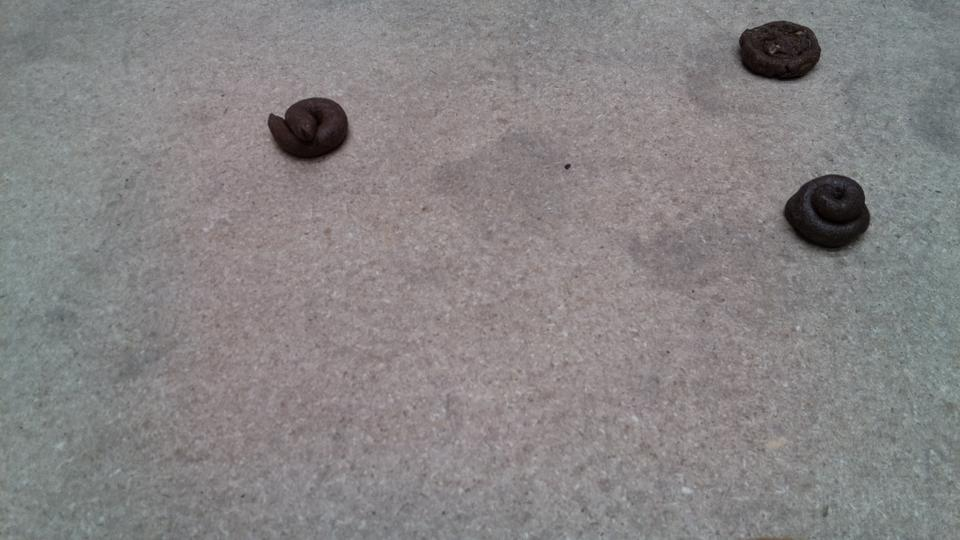poop: (714, 398, 837, 522), (826, 268, 950, 363), (592, 266, 676, 351)
